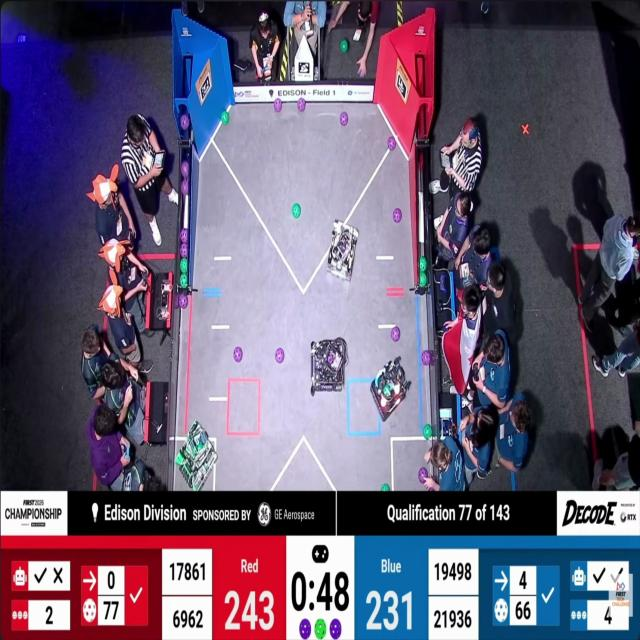artifact_green: (315, 619, 326, 639), (178, 294, 189, 309), (180, 114, 189, 130), (180, 258, 188, 274), (419, 256, 427, 272), (383, 384, 392, 398), (423, 424, 431, 439), (419, 272, 427, 287), (293, 203, 301, 218), (481, 0, 489, 14), (221, 111, 229, 125), (180, 274, 188, 288), (176, 452, 184, 465), (341, 39, 348, 53), (381, 484, 390, 491), (293, 211, 300, 219)
artifact_purple: (299, 619, 311, 639), (330, 619, 341, 639), (275, 348, 285, 364), (418, 468, 428, 484), (273, 98, 283, 113), (180, 179, 189, 195), (178, 294, 188, 308), (391, 327, 400, 342), (393, 208, 402, 223), (422, 351, 431, 366), (440, 274, 447, 293), (181, 161, 189, 177), (181, 114, 189, 130), (234, 347, 242, 362), (180, 243, 188, 257), (340, 112, 348, 126), (388, 136, 396, 150), (298, 98, 305, 112), (181, 229, 188, 242), (327, 353, 334, 364), (429, 488, 434, 491)
